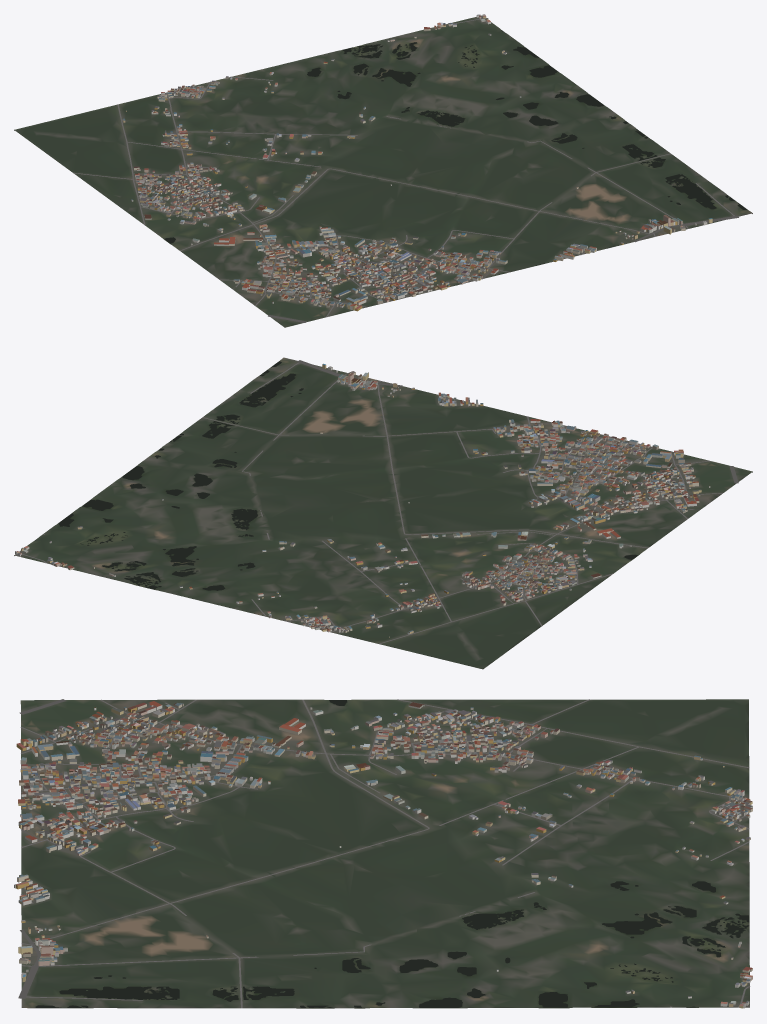
The picture shows the model from 3 angles, top to bottom: view 1: azimuth 30°, elevation 25°; view 2: azimuth 150°, elevation 25°; view 3: azimuth 270°, elevation 25°; orthographic projection. The views are drawn at different scales.
Parts seen in each view (by area): view 1: ground, buildings, water, roads; view 2: ground, buildings, water, roads; view 3: ground, buildings, water, roads.
Part boxes in pixels (x1=…): ground: x1=14, y1=15, x2=752, y2=327; buildings: x1=122, y1=14, x2=712, y2=311; water: x1=164, y1=30, x2=746, y2=243; roads: x1=73, y1=16, x2=738, y2=322; ground: x1=14, y1=357, x2=752, y2=669; buildings: x1=15, y1=363, x2=710, y2=637; water: x1=35, y1=361, x2=637, y2=590; roads: x1=15, y1=360, x2=738, y2=644; ground: x1=20, y1=699, x2=749, y2=1008; buildings: x1=14, y1=701, x2=752, y2=1008; water: x1=35, y1=700, x2=749, y2=1007; roads: x1=18, y1=699, x2=750, y2=1008.
Size of the model in its own units: 1409 by 28.32 by 1423.
